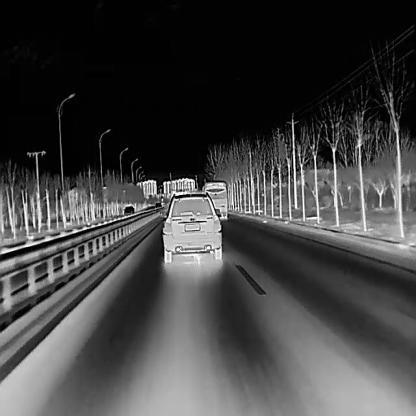car: (158, 189, 222, 263), (200, 179, 227, 219), (122, 205, 135, 218), (154, 202, 162, 210)
